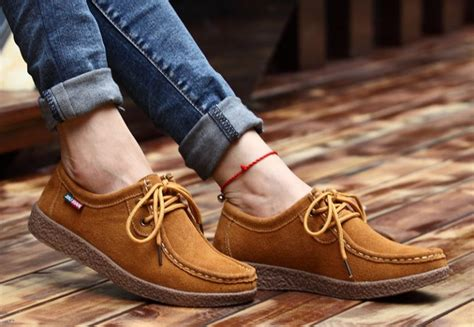gamuza: (34, 164, 445, 295)
